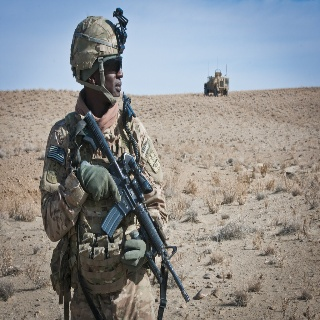rifle: (82, 111, 191, 305)
